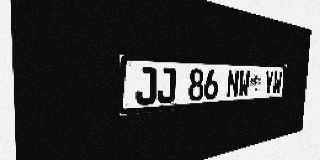6: (204, 69, 219, 100)
8: (188, 68, 205, 101)
J: (135, 67, 157, 106), (157, 67, 176, 104)
N: (226, 70, 239, 98)
W: (238, 70, 250, 97), (272, 71, 282, 94)
Y: (264, 71, 274, 95)
